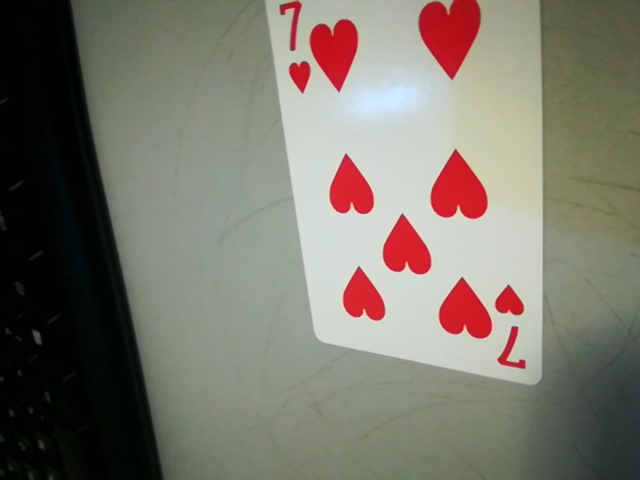hx 7: (489, 281, 538, 376)
